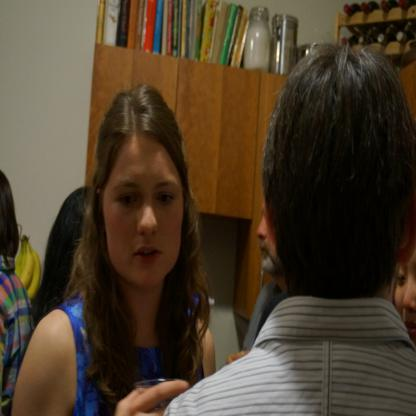book: (93, 0, 227, 63), (219, 2, 237, 66)
